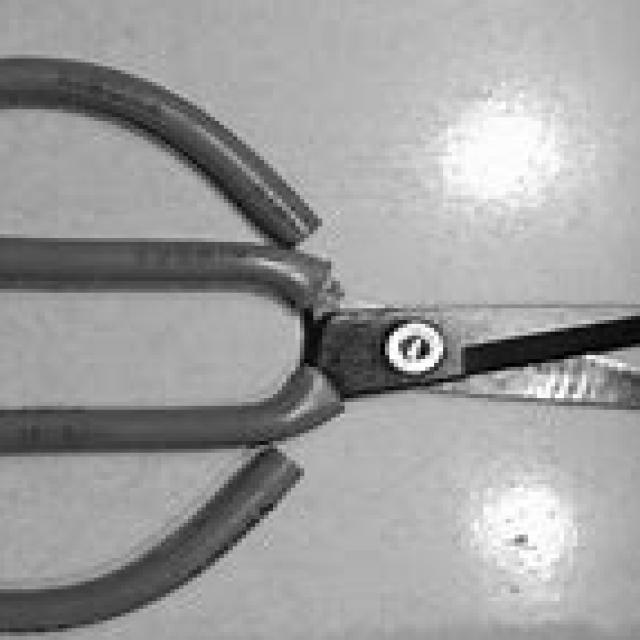tesoura: (0, 57, 639, 630)
